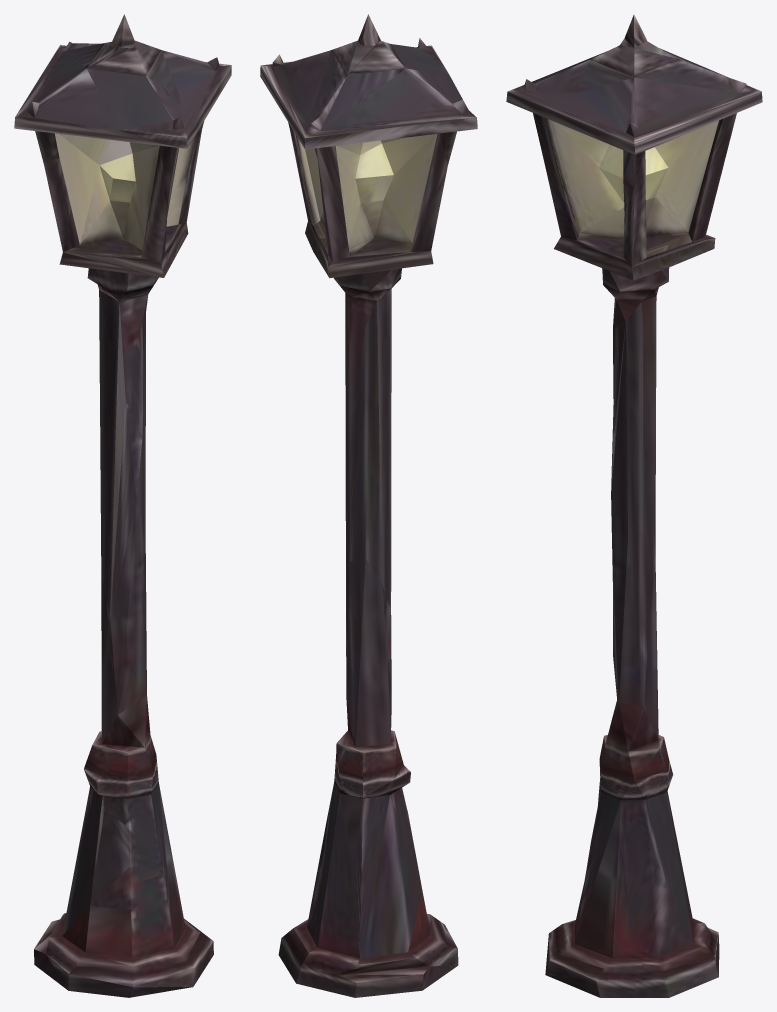
Rendered from bg_city_pole_1_lod1.glb.
3 views of the same model, side by side, from view 1: azimuth 30°, elevation 25°; view 2: azimuth 150°, elevation 25°; view 3: azimuth 270°, elevation 25° (orthographic).
Visible parts, largest first — view 1: body; view 2: body; view 3: body.
Boxes of the visible parts, x1,y1,x2,y2 form: body: (14, 14, 231, 997); body: (260, 14, 477, 997); body: (506, 14, 762, 997).
Size of the model in its own units: 0.9634 by 4.01 by 0.9804.
Materials: 1 (1 with a texture image).
